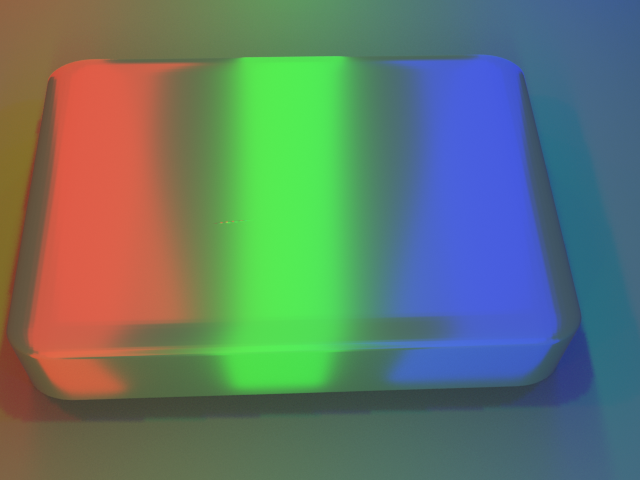scratch: (172, 192, 270, 248)
